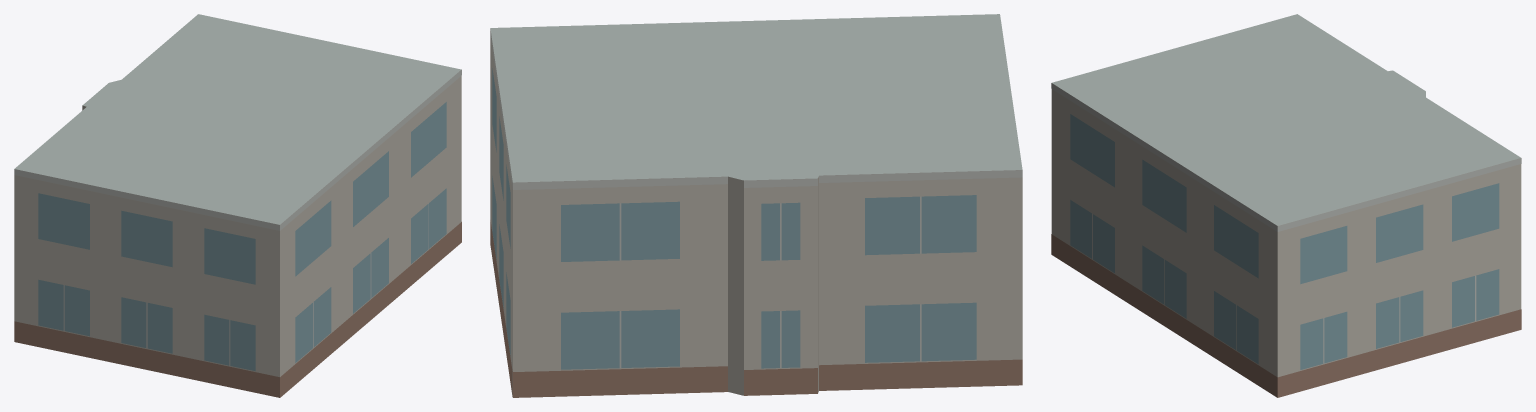
Rendered from survey-upis-32625335.glb.
The picture shows the model from 3 angles, left to right: view 1: azimuth 30°, elevation 25°; view 2: azimuth 150°, elevation 25°; view 3: azimuth 270°, elevation 25°; orthographic projection. The views are drawn at different scales.
Parts seen in each view (by area): view 1: survey-upis-32625335.tmp; view 2: survey-upis-32625335.tmp; view 3: survey-upis-32625335.tmp.
Boxes of the visible parts, left/top/right/bottom form: survey-upis-32625335.tmp: left=14, top=14, right=461, bottom=397; survey-upis-32625335.tmp: left=490, top=14, right=1022, bottom=397; survey-upis-32625335.tmp: left=1051, top=14, right=1521, bottom=397.
Size of the model in its own units: 18.54 by 7 by 17.36.
